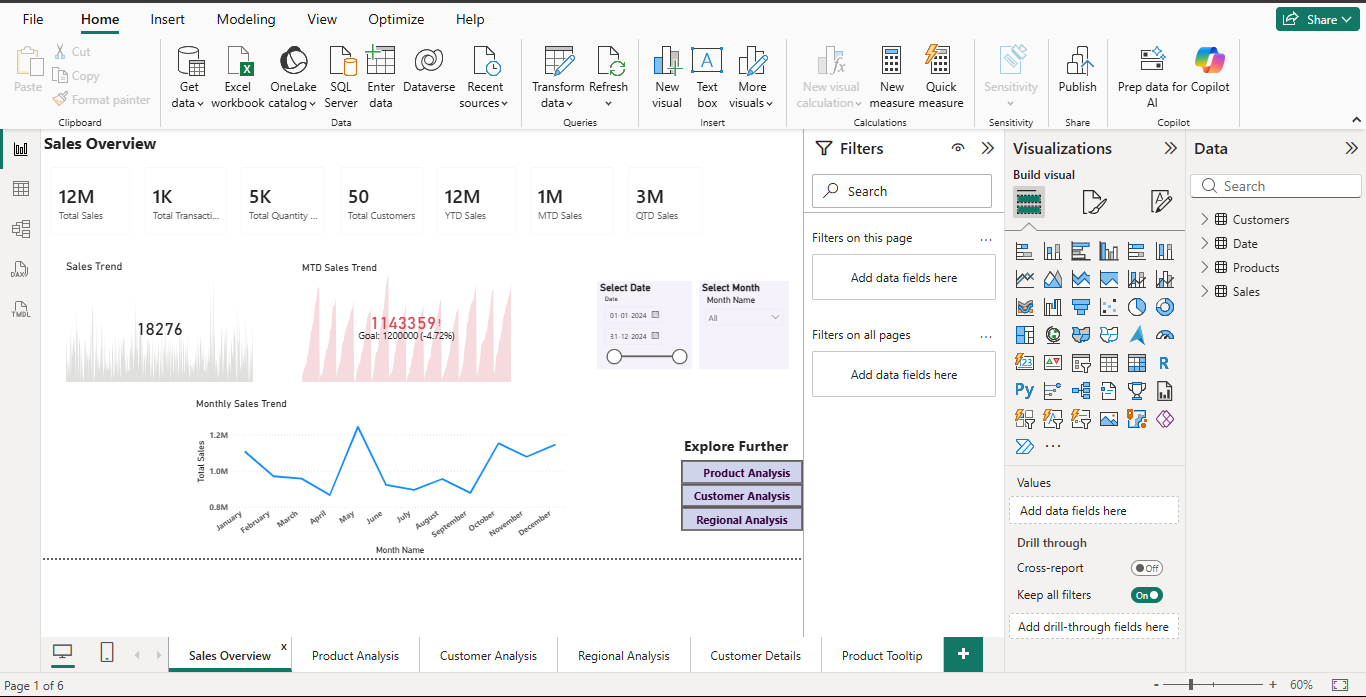

Layout of this report page (visuals, bound fields, positions):
{"tool":"powerbi","page":{"name":"Sales Overview","canvas":[1280,720],"ordinal":0},"visuals":[{"type":"cardVisual","fields":{"Data":["Sales.Total Sales"]},"box":[0,47,168,147.8],"z":0},{"type":"cardVisual","title":"Transactions","fields":{"Data":["Sales.Total Transactions"]},"box":[158.2,47,171.3,147.8],"z":1000},{"type":"cardVisual","fields":{"Data":["Sales.Total Quantity Sold"]},"box":[319.7,47,174.7,147.8],"z":2000},{"type":"cardVisual","fields":{"Data":["Sales.Total Customers"]},"box":[484.6,47,173,147.8],"z":3000},{"type":"lineChart","title":"Monthly Sales Trend","fields":{"Category":["Date.Month Name"],"Y":["Sales.Total Sales"]},"box":[255.3,450.2,631.6,270.4],"z":4000},{"type":"cardVisual","fields":{"Data":["Sales.YTD Sales"]},"box":[647.8,47,166.3,147.8],"z":5000},{"type":"slicer","title":"Select Date","fields":{"Values":["Date.Date"]},"box":[934,255.3,159.6,147.8],"z":6000},{"type":"cardVisual","fields":{"Data":["Sales.MTD Sales"]},"box":[804.3,47,174.7,147.8],"z":7000},{"type":"cardVisual","fields":{"Data":["Sales.QTD Sales"]},"box":[969.2,47,159.6,147.8],"z":8000},{"type":"kpi","title":"Sales Trend","fields":{"Indicator":["Sales.Total Sales"],"TrendLine":["Date.Date"]},"box":[36.2,220.2,324.2,210],"z":9000},{"type":"kpi","title":"MTD Sales Trend","fields":{"Indicator":["Sales.MTD Sales"],"TrendLine":["Date.Date"],"Goal":["Sales.Sales target"]},"box":[433.4,221.7,361.2,208.3],"z":10000},{"type":"actionButton","box":[1075.1,556.7,204.9,40.3],"z":11000},{"type":"actionButton","box":[1075.1,597,204.9,38.6],"z":12000},{"type":"actionButton","box":[1075.1,635.6,204.9,40.3],"z":13000},{"type":"slicer","title":"Select Month","fields":{"Values":["Date.Month Name"]},"box":[1105.3,255.3,151.2,147.8],"z":14000},{"type":"textbox","box":[1075.1,510.7,204.9,45.4],"z":15000},{"type":"textbox","box":[0,0,230.1,53.8],"z":16000}]}

Visuals, with their boxes on the page's 1280x720 design canvas (x1, y1, x2, y2). These are canvas units, not pixel positions in the 1366x697 screenshot, which may show the page scaled, cropped or inside an application window:
cardVisual - Sales.Total Sales: 0, 47, 168, 195
"Transactions" cardVisual: 158, 47, 330, 195
cardVisual - Sales.Total Quantity Sold: 320, 47, 494, 195
cardVisual - Sales.Total Customers: 485, 47, 658, 195
"Monthly Sales Trend" lineChart: 255, 450, 887, 721
cardVisual - Sales.YTD Sales: 648, 47, 814, 195
"Select Date" slicer: 934, 255, 1094, 403
cardVisual - Sales.MTD Sales: 804, 47, 979, 195
cardVisual - Sales.QTD Sales: 969, 47, 1129, 195
"Sales Trend" kpi: 36, 220, 360, 430
"MTD Sales Trend" kpi: 433, 222, 795, 430
actionButton: 1075, 557, 1280, 597
actionButton: 1075, 597, 1280, 636
actionButton: 1075, 636, 1280, 676
"Select Month" slicer: 1105, 255, 1256, 403
textbox: 1075, 511, 1280, 556
textbox: 0, 0, 230, 54
